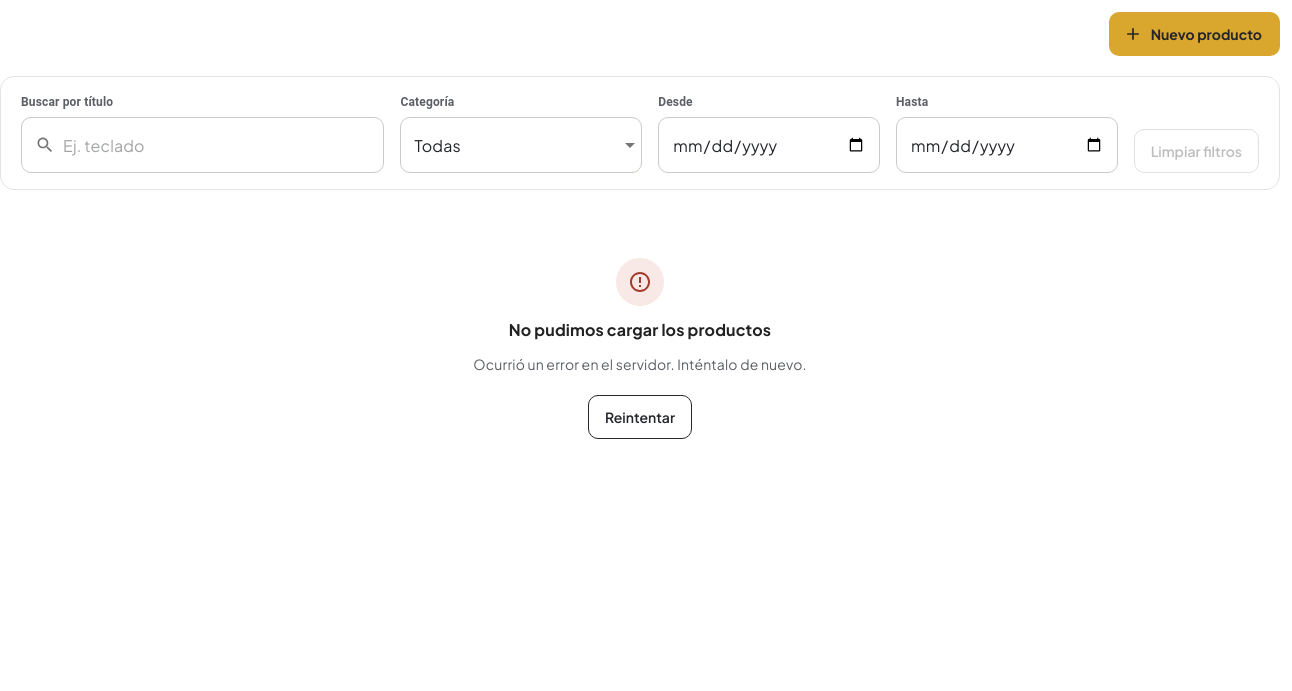
InventoryPage › shows the error and retries
Click the button "Reintentar" at [640, 417], box [588,395,692,439]
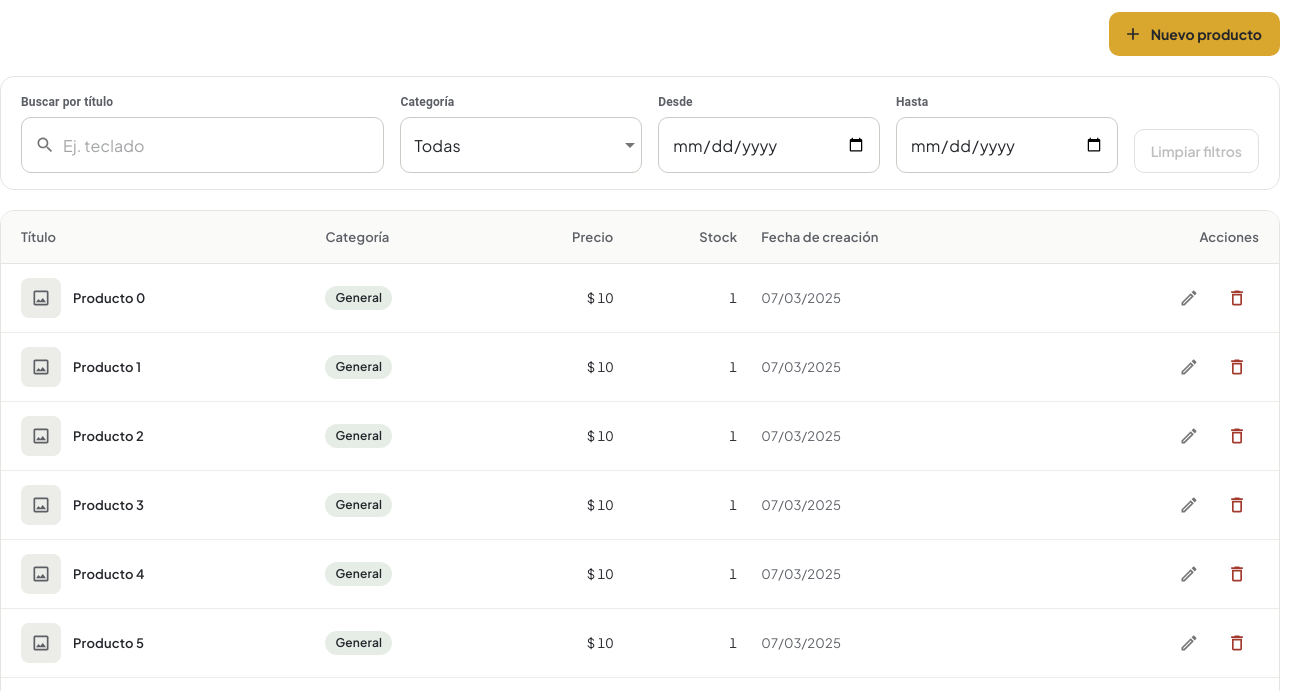
Result: the text "Producto 0" is shown at [73,289,146,307]
Result: the message is gone
